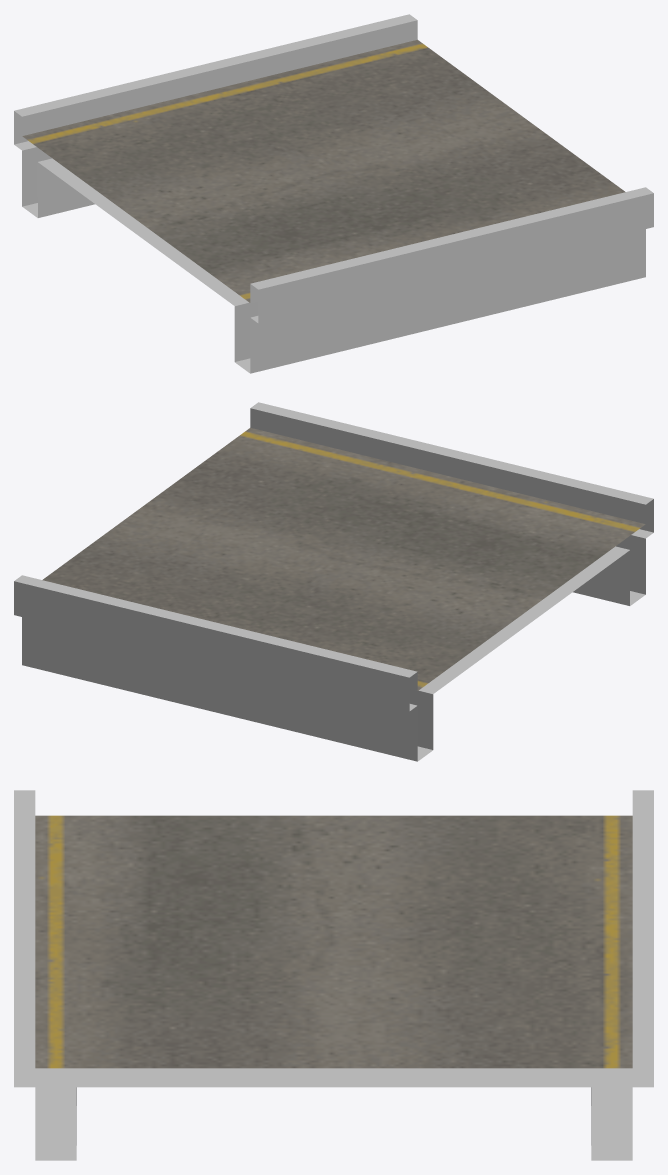
The model's file is Urban_Road2BridgeSegmentNoSides_Model.fbx.
3 renders of one model, top to bottom at view 1: azimuth 30°, elevation 25°; view 2: azimuth 150°, elevation 25°; view 3: azimuth 270°, elevation 25°, orthographic. The views are drawn at different scales.
Parts seen in each view (by area): view 1: Urban_Road2BridgeSegmentNoSides_Mesh; view 2: Urban_Road2BridgeSegmentNoSides_Mesh; view 3: Urban_Road2BridgeSegmentNoSides_Mesh.
Boxes of the visible parts, box(x1,y1,x2,y2) form: Urban_Road2BridgeSegmentNoSides_Mesh: box(14, 14, 653, 373); Urban_Road2BridgeSegmentNoSides_Mesh: box(14, 402, 653, 761); Urban_Road2BridgeSegmentNoSides_Mesh: box(14, 790, 653, 1160).
Bounding box in the file's own units: 16 × 3.48 × 17.13.
